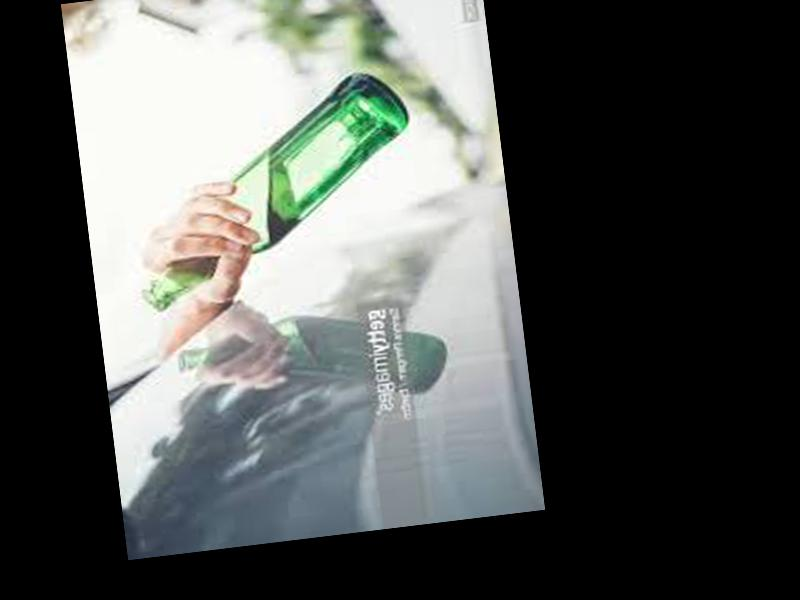Beer: (123, 67, 427, 315)
